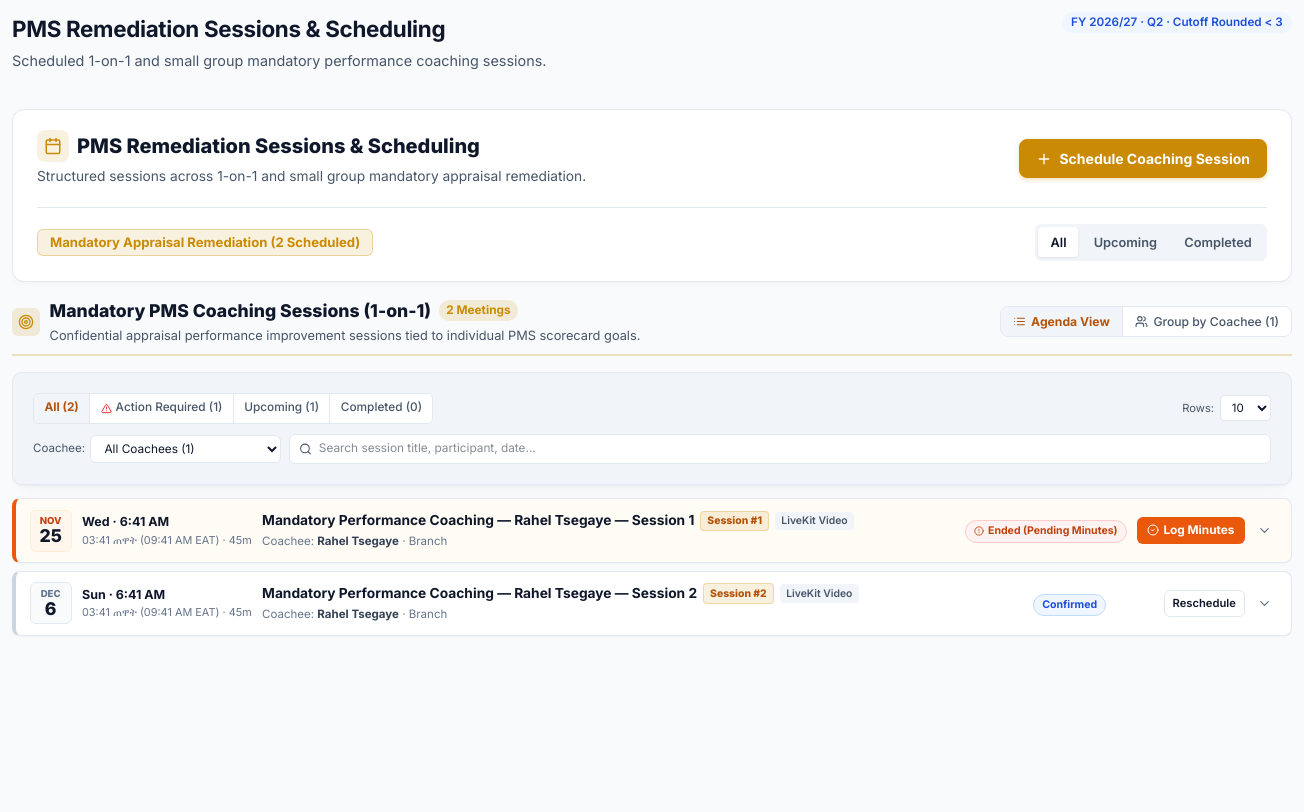
Test case: CoachingHomePage test render › advances focus to upcoming occurrence and hides edit/reschedule for ended sessions
Expected: the text "Agenda View" is shown, [1031,312,1110,331]
Expected: the button "Log Minutes" is shown, [1137,517,1245,544]
Toggle view to Grouped Journey View
Click the button "Group by Coachee (1)" at (1207,322), box [1123,307,1291,336]
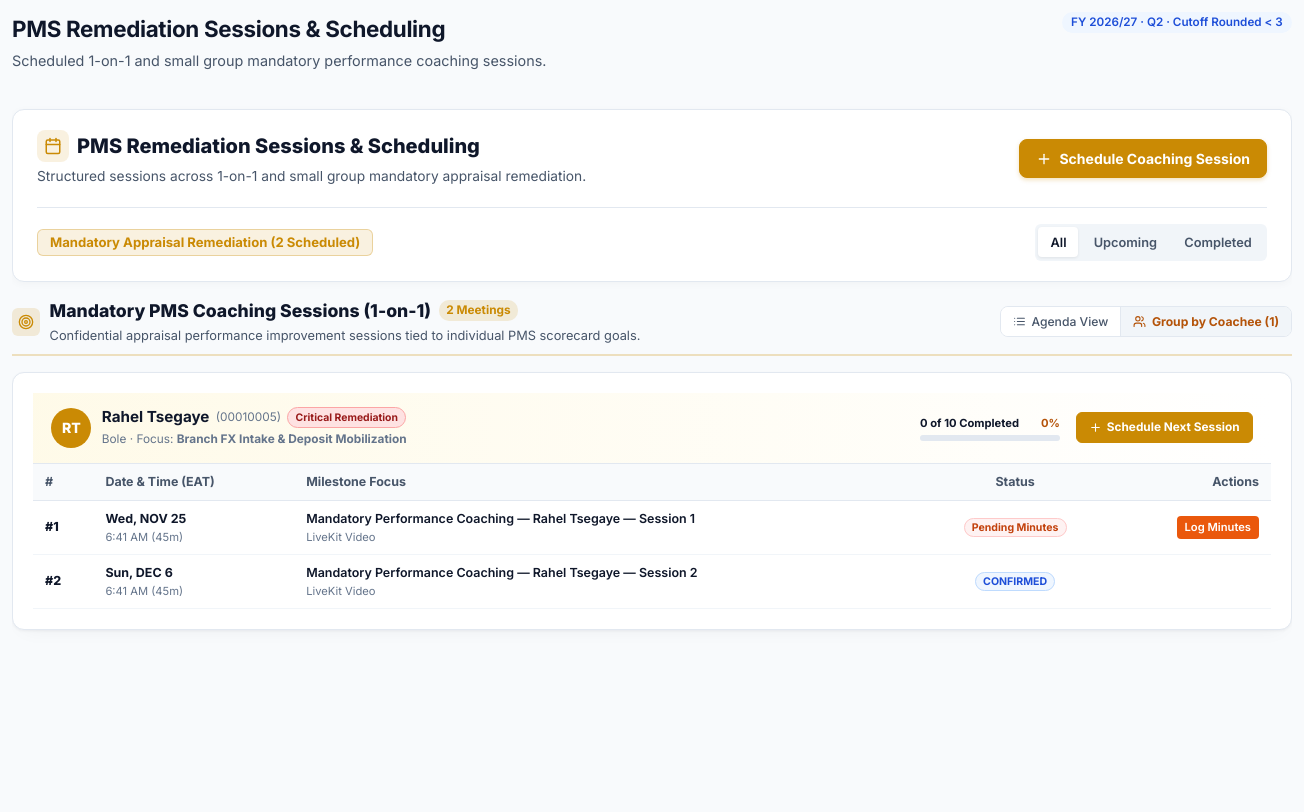
Expected: the text "#1" is shown, [33,501,93,555]
Expected: the button "Schedule Next Session" is shown, [1076,412,1253,443]
